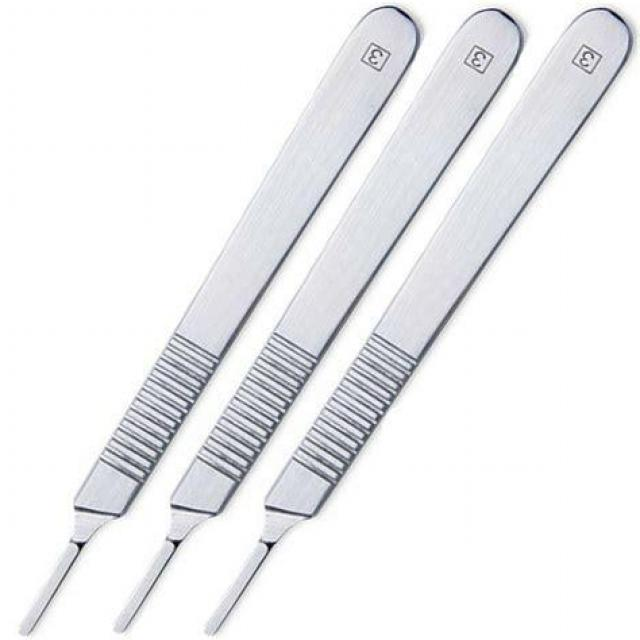Scalpel: (201, 0, 633, 640), (111, 6, 528, 638), (17, 3, 423, 640)
